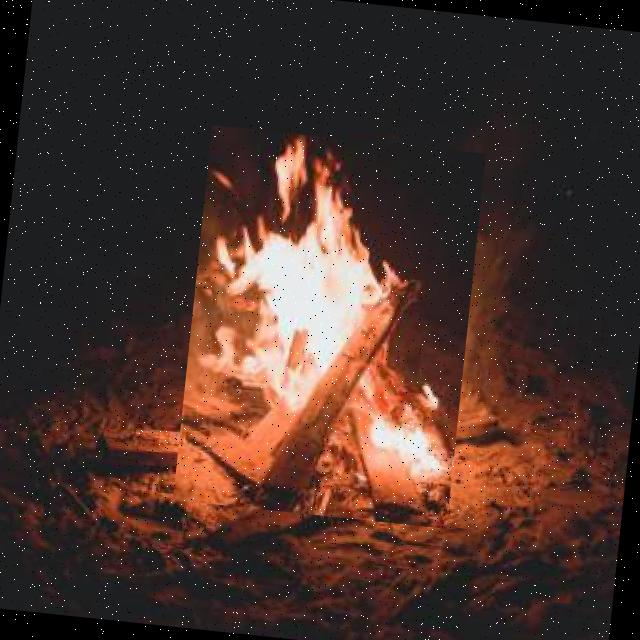fire: (172, 124, 486, 528)
